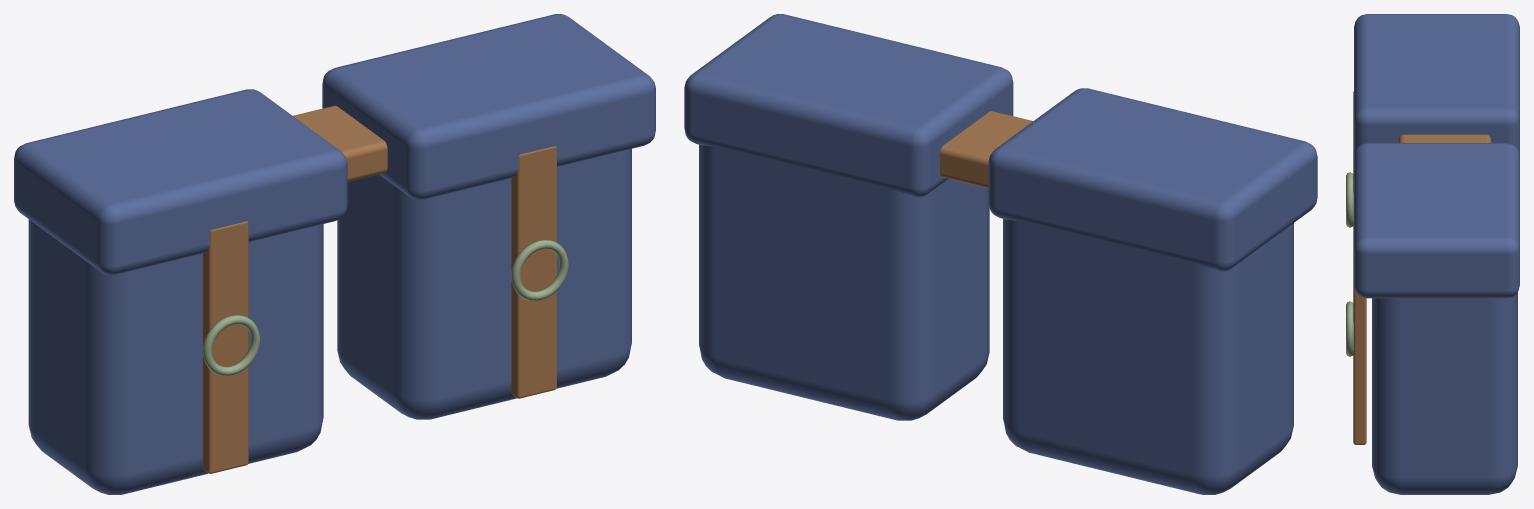
File: desert-caravanserai-and-bazaar-saddlebag-pair-1bd2f76e__30457.glb
3 views of the same model, side by side, from view 1: azimuth 30°, elevation 25°; view 2: azimuth 150°, elevation 25°; view 3: azimuth 270°, elevation 25° (orthographic). The views are drawn at different scales.
Visible parts, largest first — view 1: saddlebag-pair; view 2: saddlebag-pair; view 3: saddlebag-pair.
Part boxes in pixels (box(x1,y1,x2,y2)): saddlebag-pair: box(14, 14, 655, 494); saddlebag-pair: box(684, 14, 1317, 494); saddlebag-pair: box(1346, 14, 1519, 494).
Bounding box in the file's own units: 0.83 × 0.44 × 0.262.
